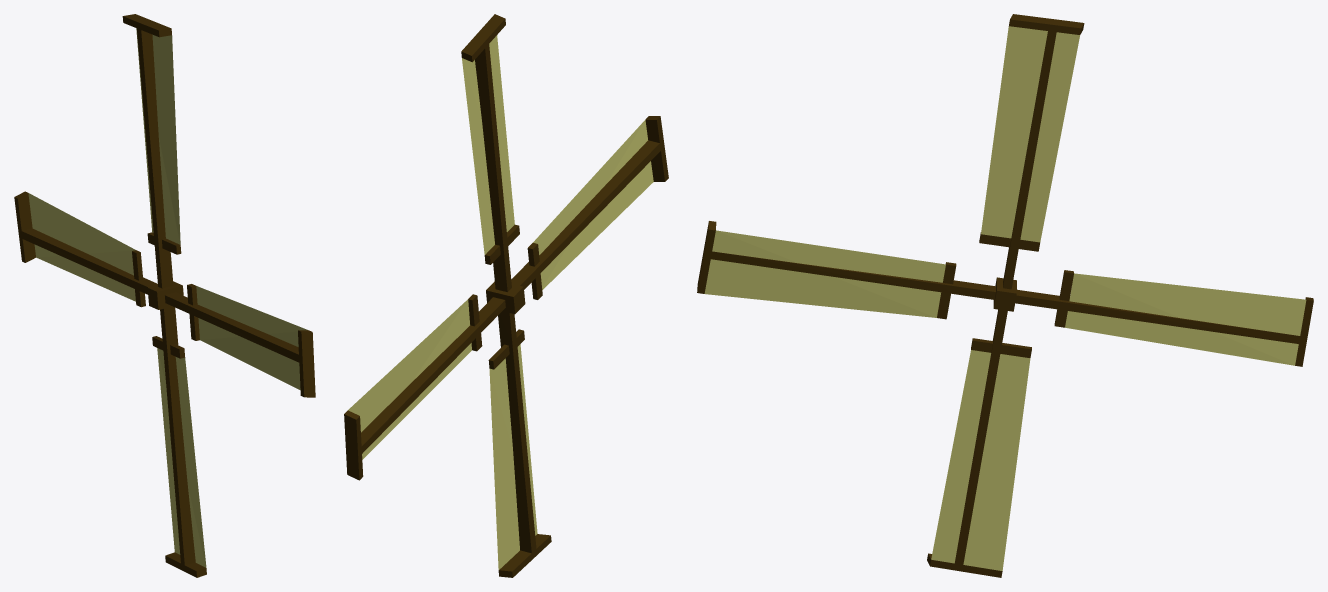
File: sails0018.obj
3 renders of one model, left to right at view 1: azimuth 30°, elevation 25°; view 2: azimuth 150°, elevation 25°; view 3: azimuth 270°, elevation 25°, orthographic. The views are drawn at different scales.
Visible parts, largest first — view 1: Sails_Mesh; view 2: Sails_Mesh; view 3: Sails_Mesh.
Part boxes in pixels (<box>): Sails_Mesh: <box>14,14,315,577</box>; Sails_Mesh: <box>344,14,668,577</box>; Sails_Mesh: <box>697,14,1313,577</box>.
Size of the model in its own units: 0.5135 by 9.99 by 10.
